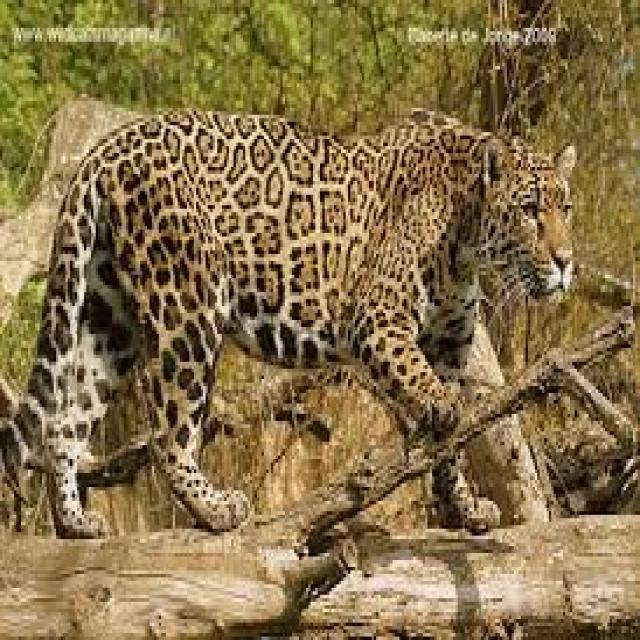Jaguar: (0, 104, 579, 539)
